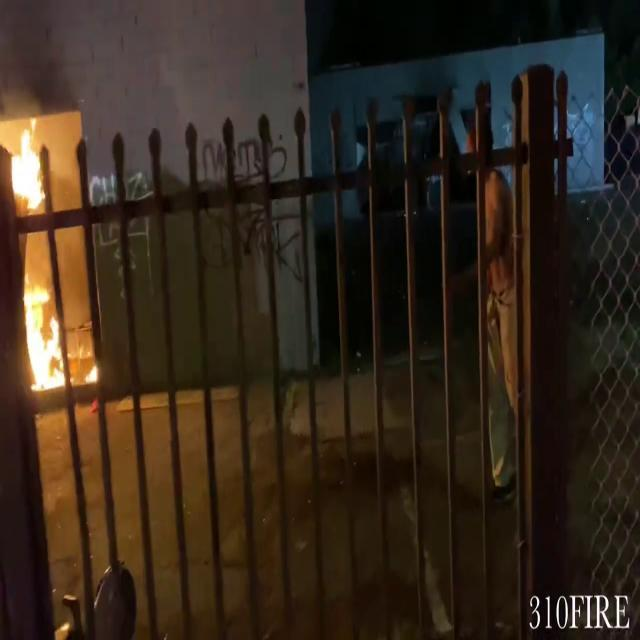Fire: (21, 272, 71, 399), (8, 119, 49, 214)
